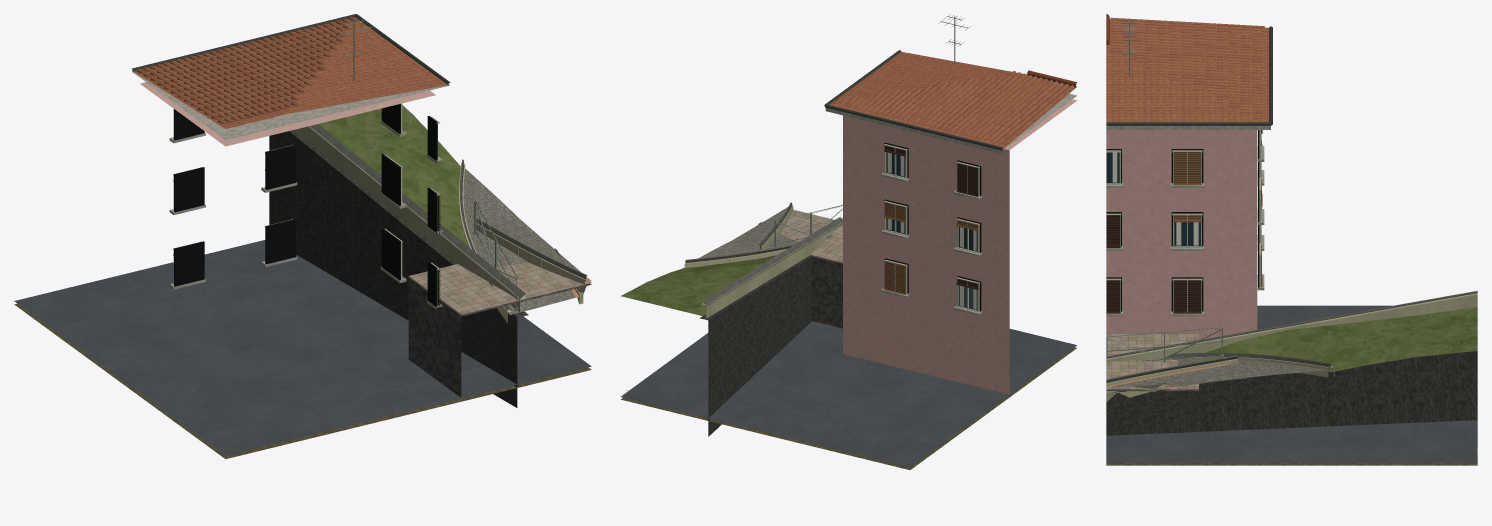
3 renders of one model, left to right at view 1: azimuth 30°, elevation 25°; view 2: azimuth 150°, elevation 25°; view 3: azimuth 270°, elevation 25°, orthographic. The views are drawn at different scales.
Bounding box in the file's own units: 16 × 18.65 × 16.
Materials: 27 (17 with a texture image).
